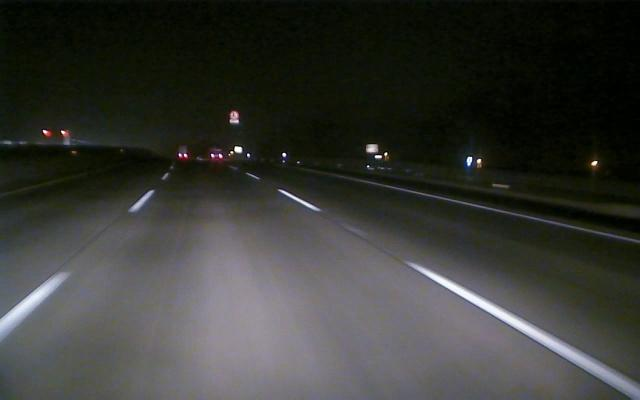lane: (269, 184, 638, 396), (1, 189, 155, 340), (362, 179, 640, 244)
